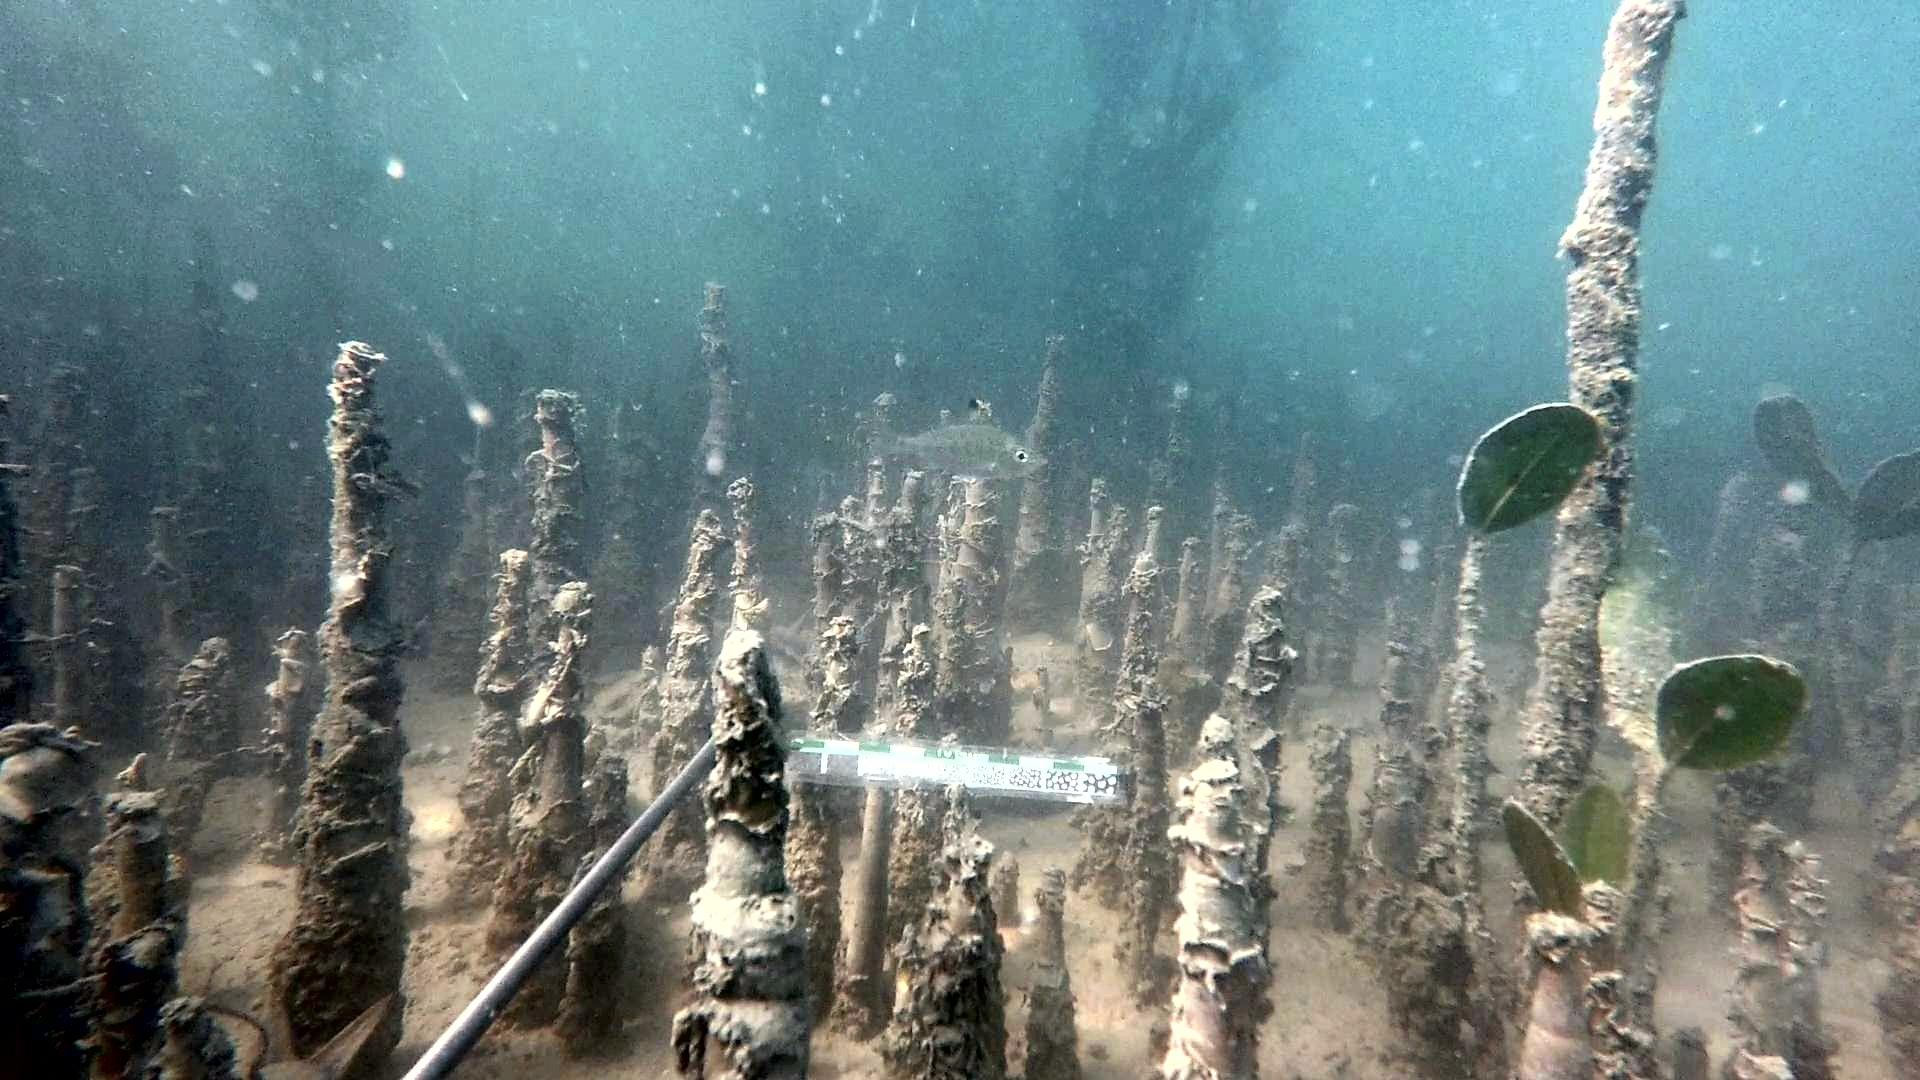gerres: (862, 398, 1048, 481)
